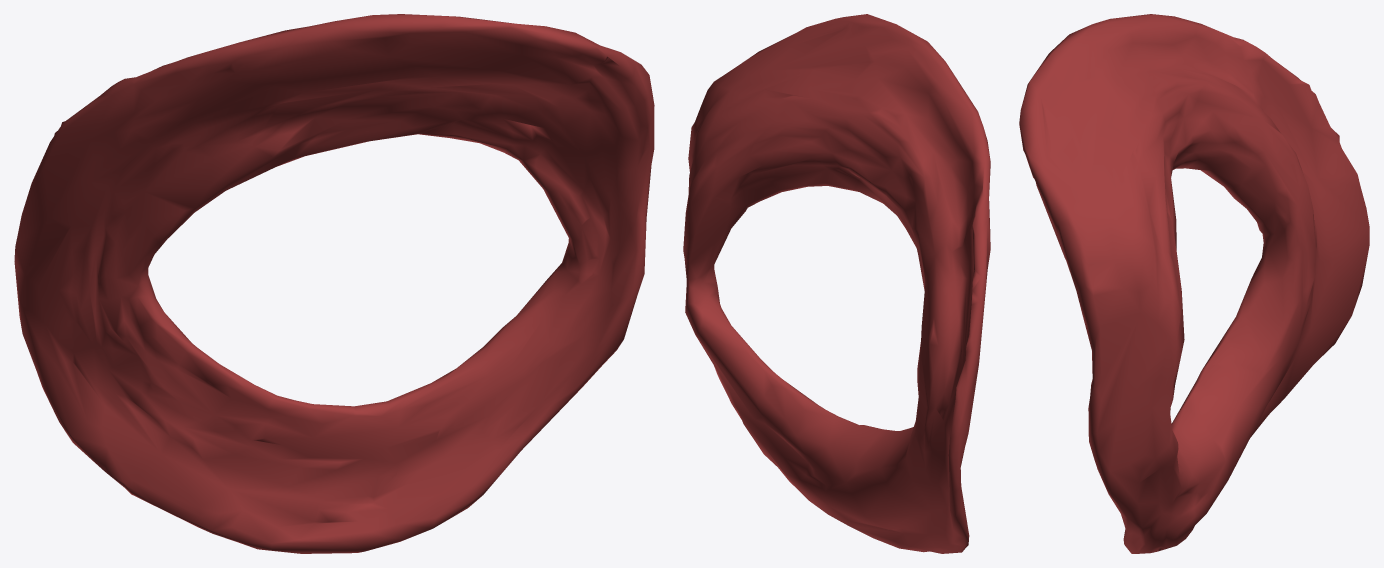
File: orbital-part-of-orbicularis-oculi-r.glb
The picture shows the model from 3 angles, left to right: view 1: azimuth 30°, elevation 25°; view 2: azimuth 150°, elevation 25°; view 3: azimuth 270°, elevation 25°; orthographic projection. The views are drawn at different scales.
Parts seen in each view (by area): view 1: Orbital part of orbicularis oculi.r; view 2: Orbital part of orbicularis oculi.r; view 3: Orbital part of orbicularis oculi.r.
Part boxes in pixels (left/top/right/bottom): Orbital part of orbicularis oculi.r: left=14, top=14, right=654, bottom=553; Orbital part of orbicularis oculi.r: left=683, top=14, right=990, bottom=553; Orbital part of orbicularis oculi.r: left=1019, top=14, right=1369, bottom=553.
Bounding box in the file's own units: 0.0443 × 0.0497 × 0.0314.
